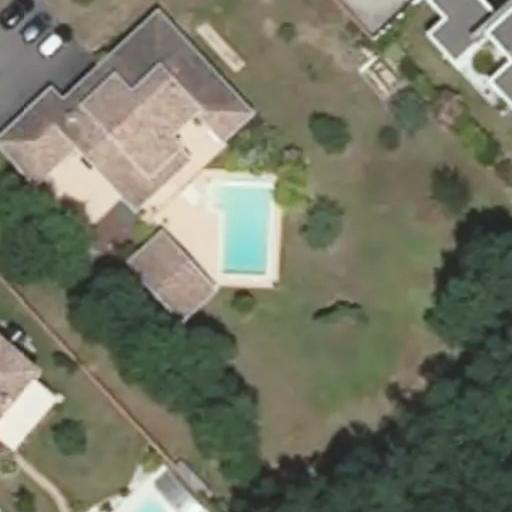pool: (228, 197, 283, 286)
